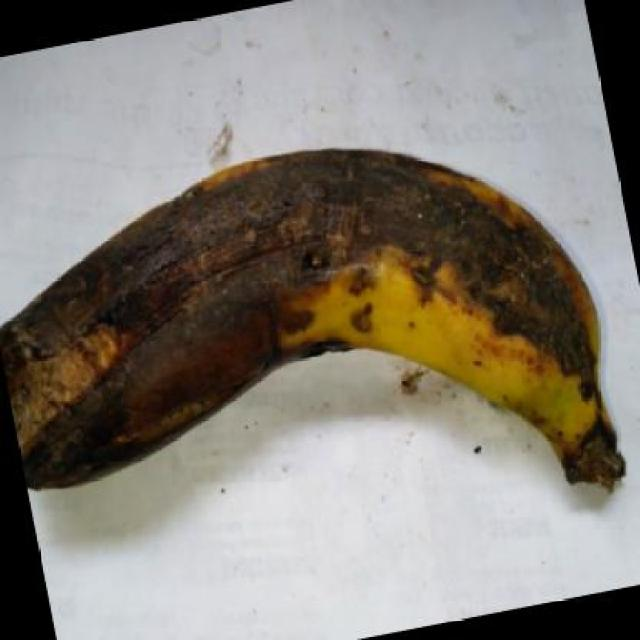Rotten: (0, 119, 637, 544)
